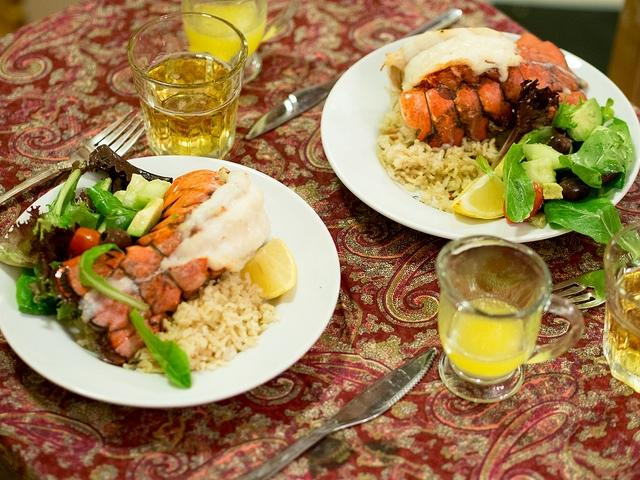lemon: (240, 237, 297, 300), (450, 172, 504, 219)
tomato: (503, 182, 544, 224), (70, 228, 102, 258)
